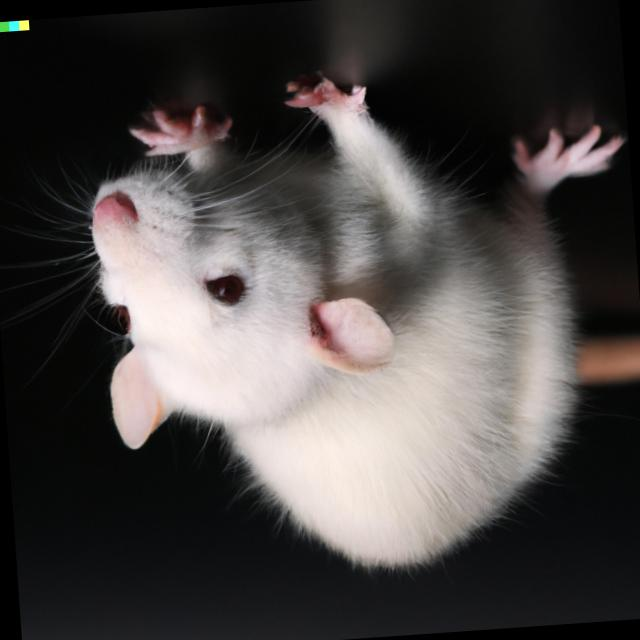rodents: (31, 40, 608, 592)
